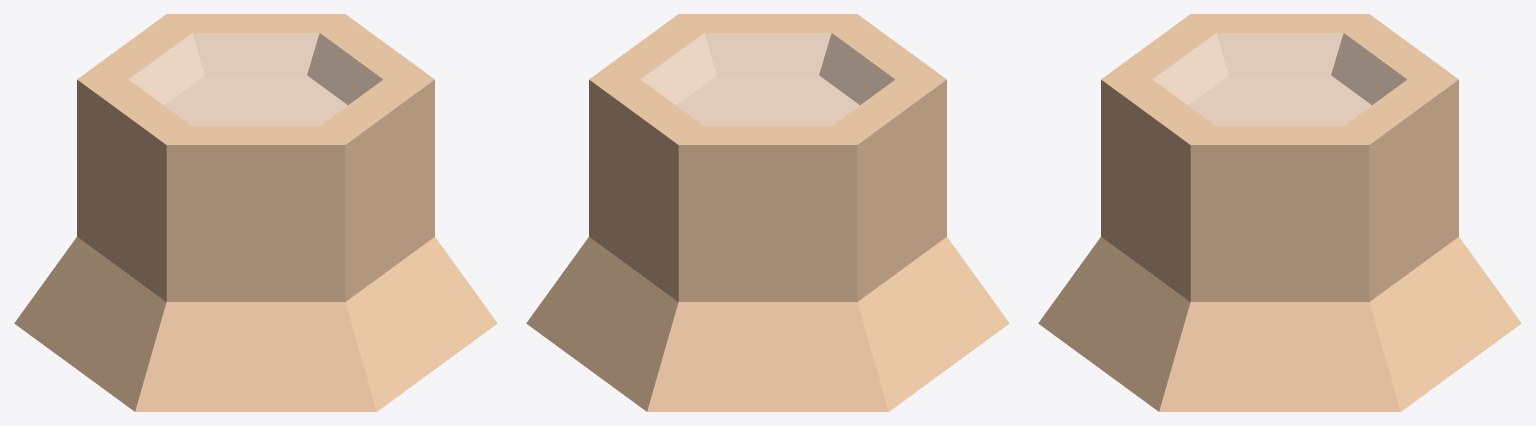
File: treeStump_round.glb
The picture shows the model from 3 angles, left to right: view 1: azimuth 30°, elevation 25°; view 2: azimuth 150°, elevation 25°; view 3: azimuth 270°, elevation 25°; orthographic projection.
Visible parts, largest first — view 1: treeStump_round; view 2: treeStump_round; view 3: treeStump_round.
Boxes of the visible parts, x1,y1,x2,y2 form: treeStump_round: (14,14,497,411); treeStump_round: (526,14,1009,411); treeStump_round: (1038,14,1521,411).
Size of the model in its own units: 0.3213 by 0.2065 by 0.371.
